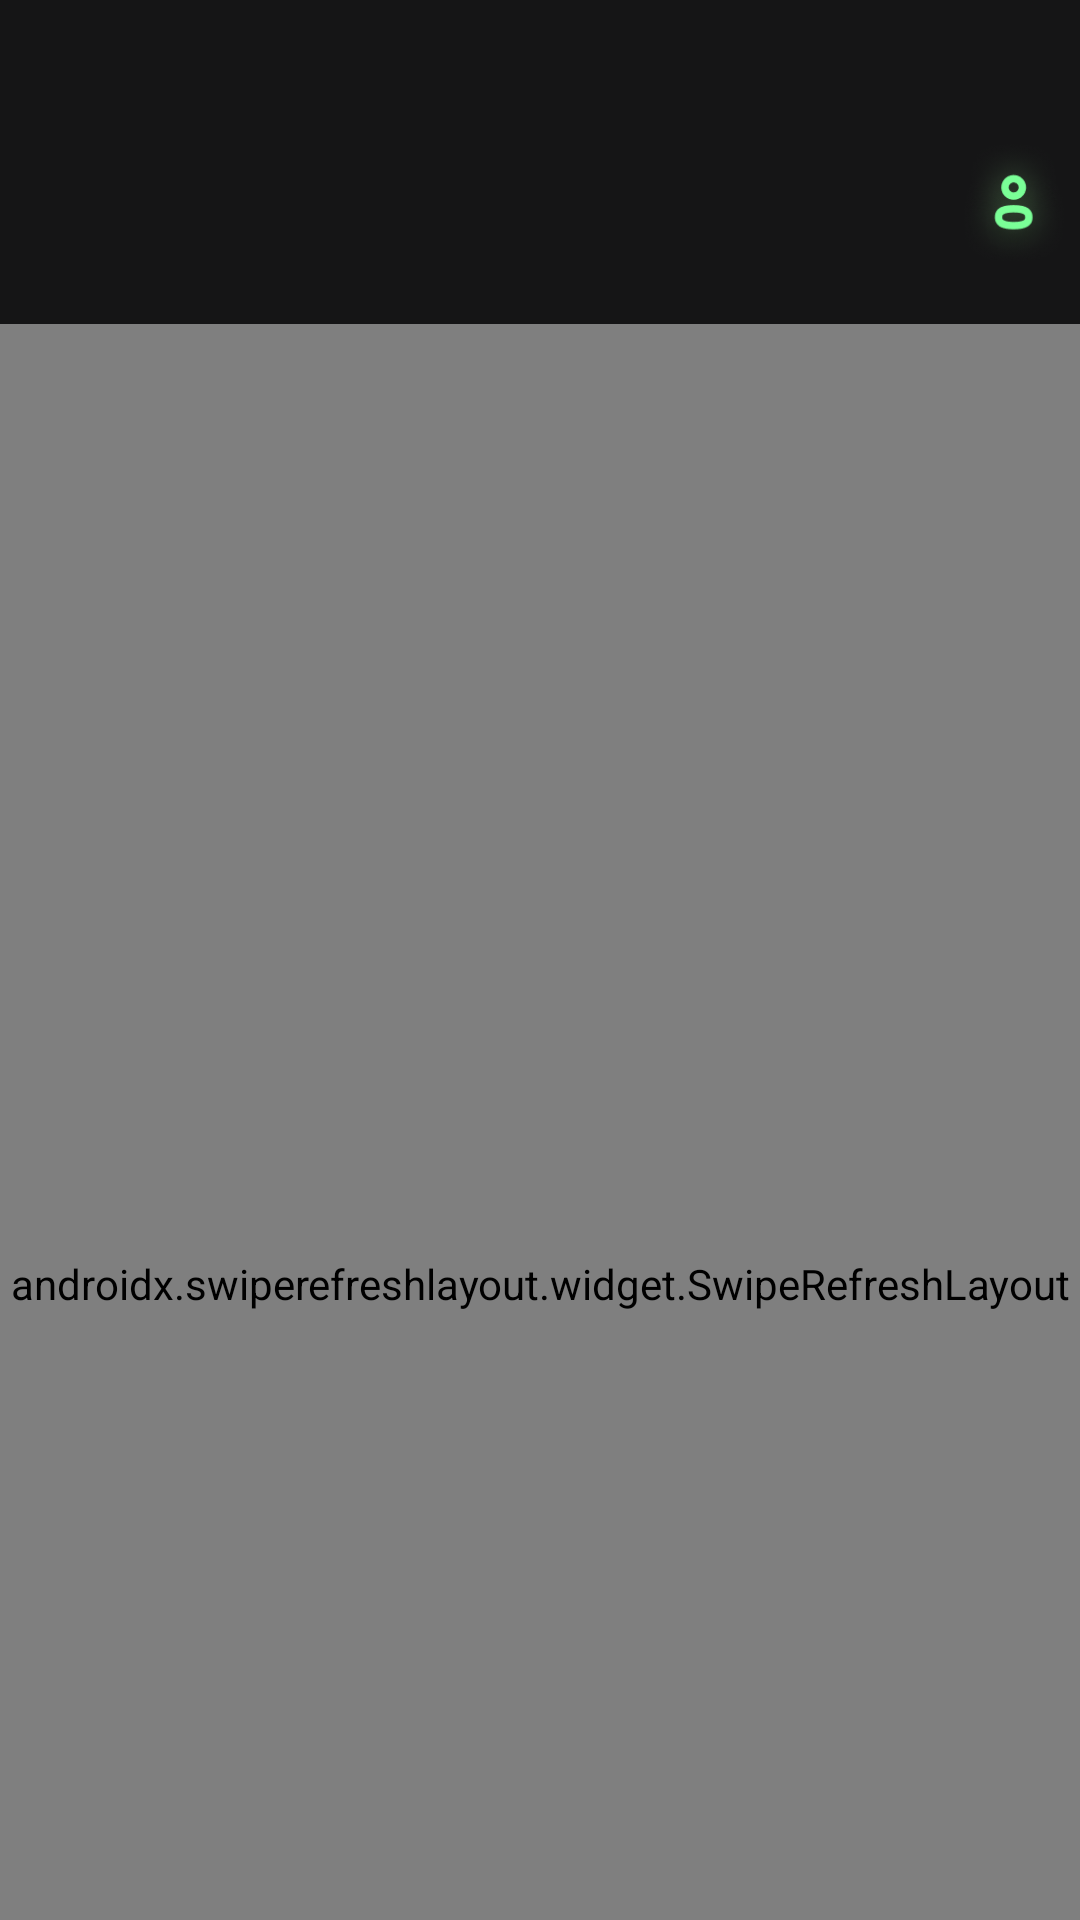

Named icons in this screenshot (1080px x 1920px) and their centers, [x,y]:
profile: [1013,202]
